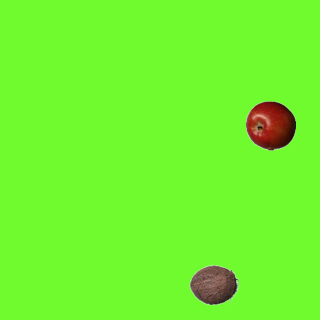Apple Braeburn: (245, 100, 295, 150)
Cocos: (188, 259, 238, 309)
